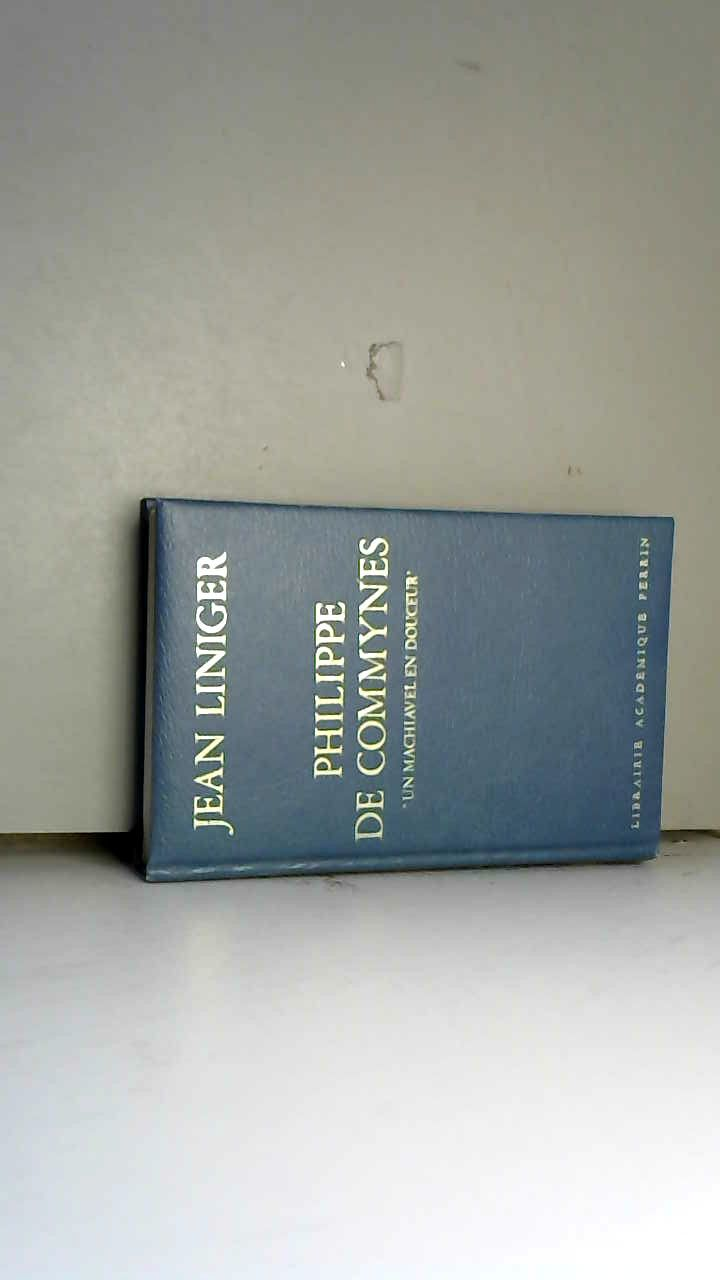book: (112, 470, 694, 903)
